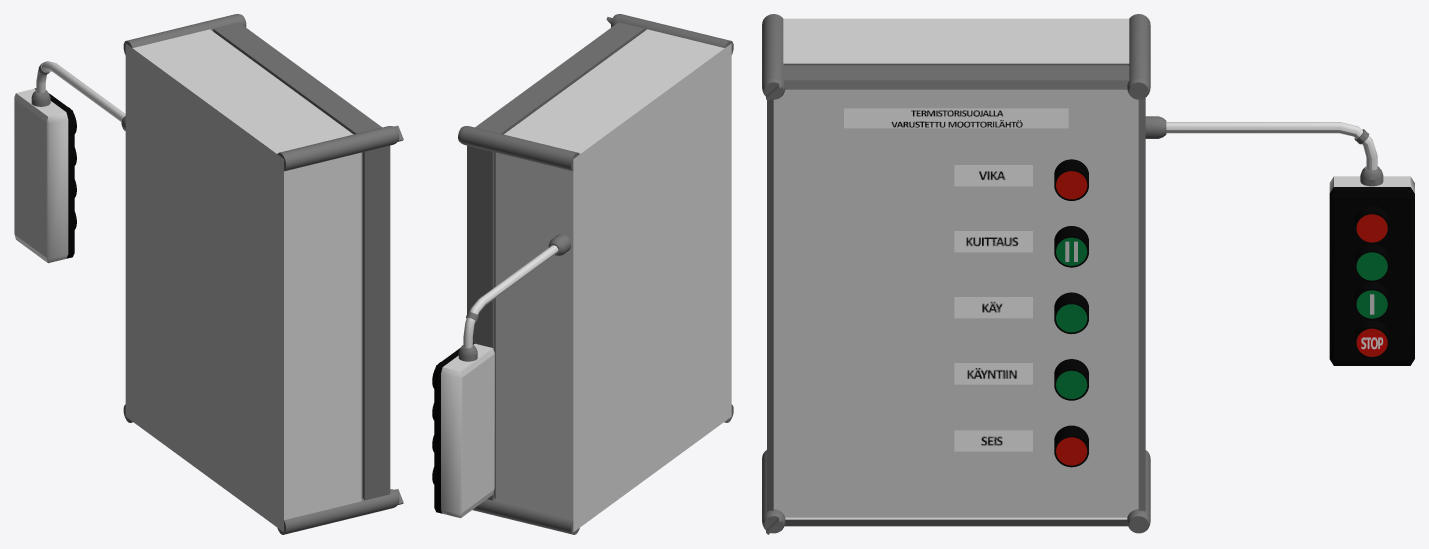
File: another box.fbx
The picture shows the model from 3 angles, left to right: view 1: azimuth 30°, elevation 25°; view 2: azimuth 150°, elevation 25°; view 3: azimuth 270°, elevation 25°; orthographic projection. The views are drawn at different scales.
Visible parts, largest first — view 1: Cube; view 2: Cube; view 3: Cube.
Boxes of the visible parts, <box> form: Cube: <box>14,14,403,534</box>; Cube: <box>432,14,733,534</box>; Cube: <box>762,14,1414,534</box>.
Bounding box in the file's own units: 89.4 × 265 × 345.
6 materials, 1 textured.
